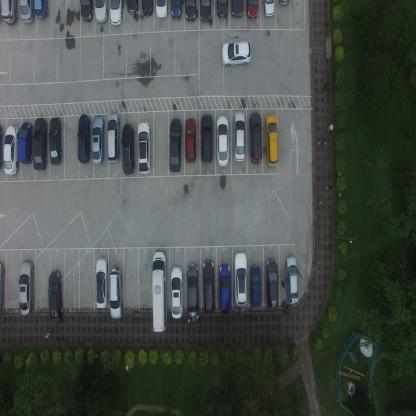car: (151, 249, 167, 332), (47, 269, 64, 325), (18, 258, 34, 317), (2, 124, 19, 176), (32, 116, 47, 172), (264, 113, 279, 168), (233, 252, 248, 306), (220, 41, 252, 66), (248, 111, 263, 164), (168, 117, 182, 173), (109, 266, 123, 321), (232, 110, 246, 164), (264, 258, 278, 311), (77, 112, 91, 164), (284, 253, 298, 305), (137, 120, 150, 175), (48, 116, 62, 167), (107, 110, 120, 164), (170, 266, 183, 319), (95, 256, 108, 309), (216, 115, 229, 167), (200, 112, 213, 163), (91, 115, 104, 166), (122, 122, 134, 175), (219, 262, 231, 315), (186, 263, 198, 316), (18, 120, 32, 165), (203, 259, 214, 315), (250, 264, 262, 309), (185, 117, 196, 164), (0, 0, 18, 26), (18, 0, 35, 25), (109, 0, 122, 27), (94, 0, 108, 25), (154, 0, 169, 22), (79, 0, 93, 23), (34, 0, 50, 20), (246, 0, 259, 22), (184, 0, 196, 23), (263, 0, 276, 20), (216, 0, 229, 20), (0, 260, 5, 312), (200, 0, 211, 23), (231, 0, 244, 19), (170, 0, 182, 20), (142, 0, 154, 17), (126, 0, 140, 14), (0, 124, 3, 170), (278, 0, 291, 7)
